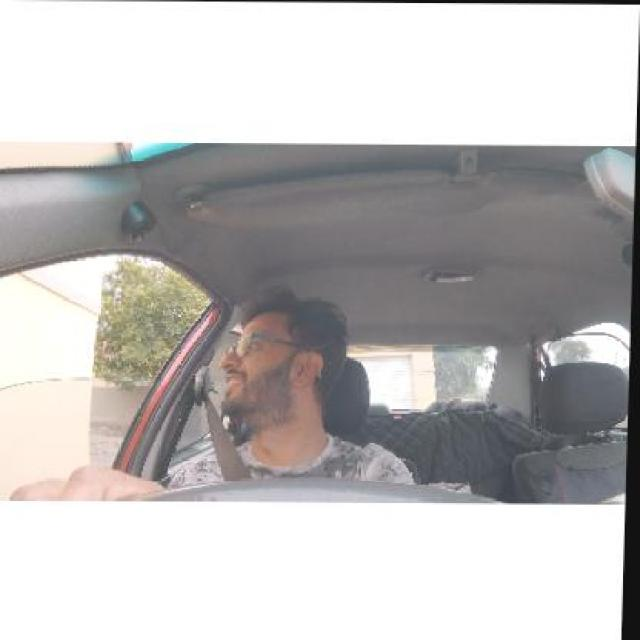LeftRight: (216, 297, 340, 418)
